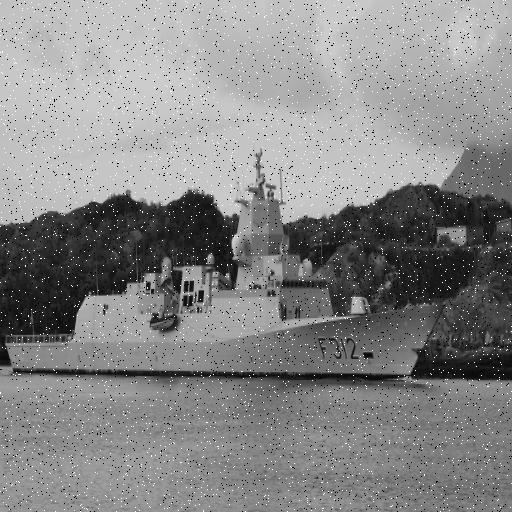Fragata: (3, 138, 449, 385)
